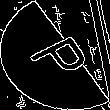P_NE: (17, 26, 93, 84)
